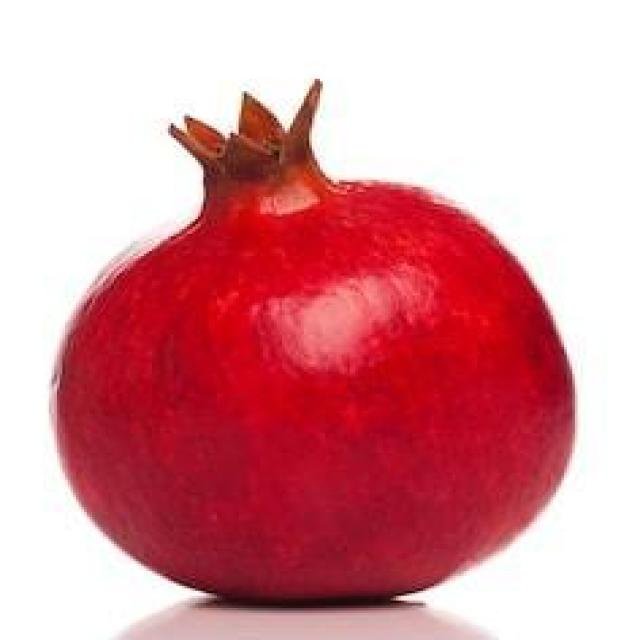Pomegranate: (46, 76, 580, 608)
